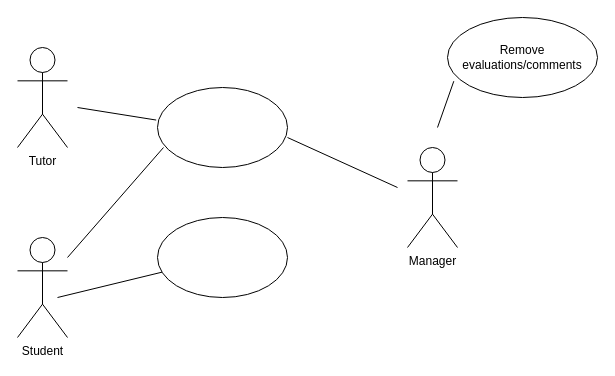
Image size: 615x376. Some labels were removed from this diagram. The centre of each missing label's shape, as x and y in pixels:
"Add comments/evaluations" belongs at pixel 222 257.
"View evaluations/comments" belongs at pixel 222 127.
